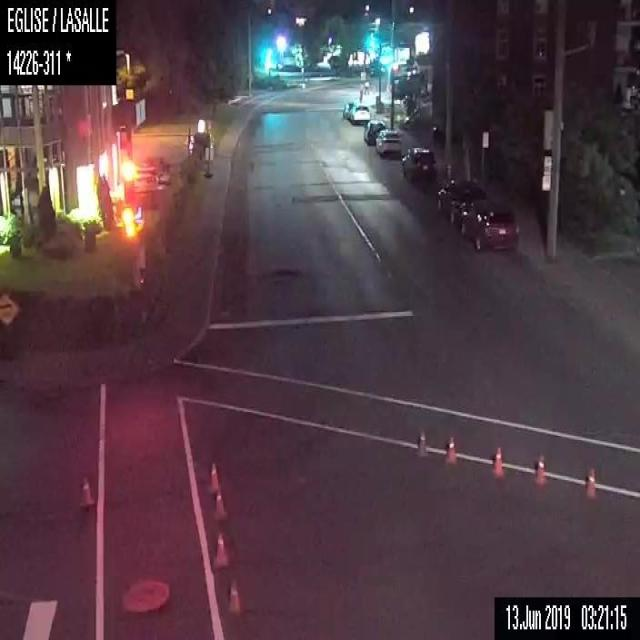construction: (78, 471, 94, 508), (212, 488, 226, 519), (212, 532, 225, 564), (208, 461, 220, 495), (534, 457, 546, 485), (492, 446, 503, 476), (444, 437, 456, 464), (227, 582, 238, 610), (585, 469, 596, 497), (416, 429, 426, 456)
vehicle: (458, 205, 517, 252), (435, 176, 484, 224), (399, 145, 435, 183), (374, 128, 401, 156), (187, 131, 213, 160), (362, 118, 385, 145), (349, 104, 371, 122), (342, 103, 355, 118)
